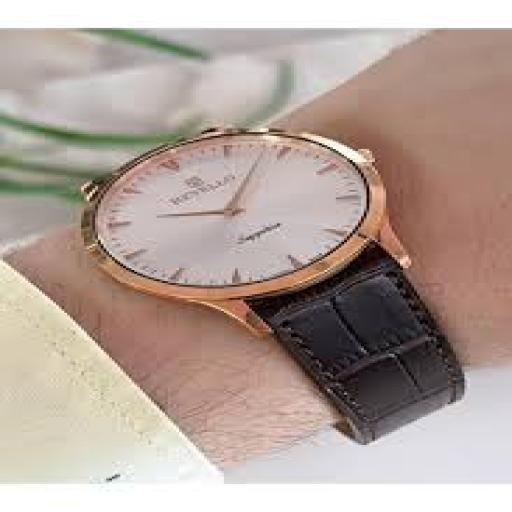KolSaati: (57, 100, 495, 440)
